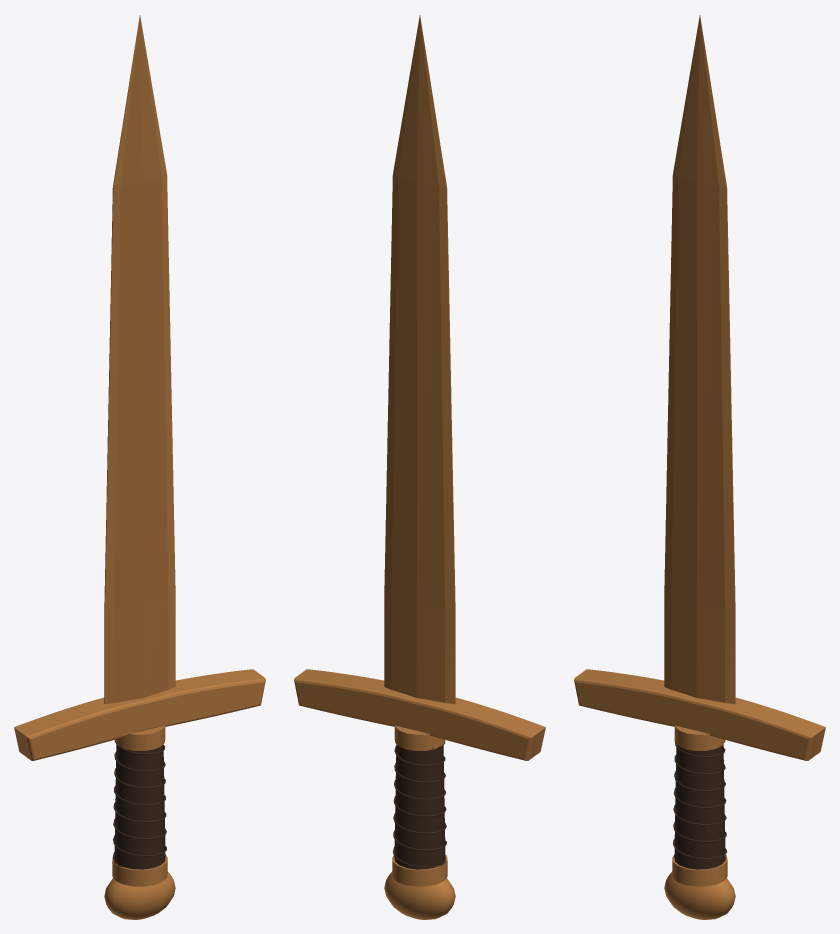
File: corealm_sword_1.glb
3 views of the same model, side by side, from view 1: azimuth 30°, elevation 25°; view 2: azimuth 150°, elevation 25°; view 3: azimuth 330°, elevation 25° (orthographic).
Parts seen in each view (by area): view 1: corealm-weapon-blade, corealm-weapon-metal, corealm-weapon-leather; view 2: corealm-weapon-blade, corealm-weapon-metal, corealm-weapon-leather; view 3: corealm-weapon-blade, corealm-weapon-metal, corealm-weapon-leather.
Part boxes in pixels (<box>): corealm-weapon-blade: <box>104,15,175,703</box>; corealm-weapon-metal: <box>14,669,265,919</box>; corealm-weapon-leather: <box>112,743,166,869</box>; corealm-weapon-blade: <box>384,15,455,703</box>; corealm-weapon-metal: <box>294,669,545,919</box>; corealm-weapon-leather: <box>393,739,446,869</box>; corealm-weapon-blade: <box>664,15,735,703</box>; corealm-weapon-metal: <box>574,669,825,919</box>; corealm-weapon-leather: <box>673,741,727,875</box>.
Size of the model in its own units: 0.2769 by 1 by 0.056.
3 materials, 1 textured.
